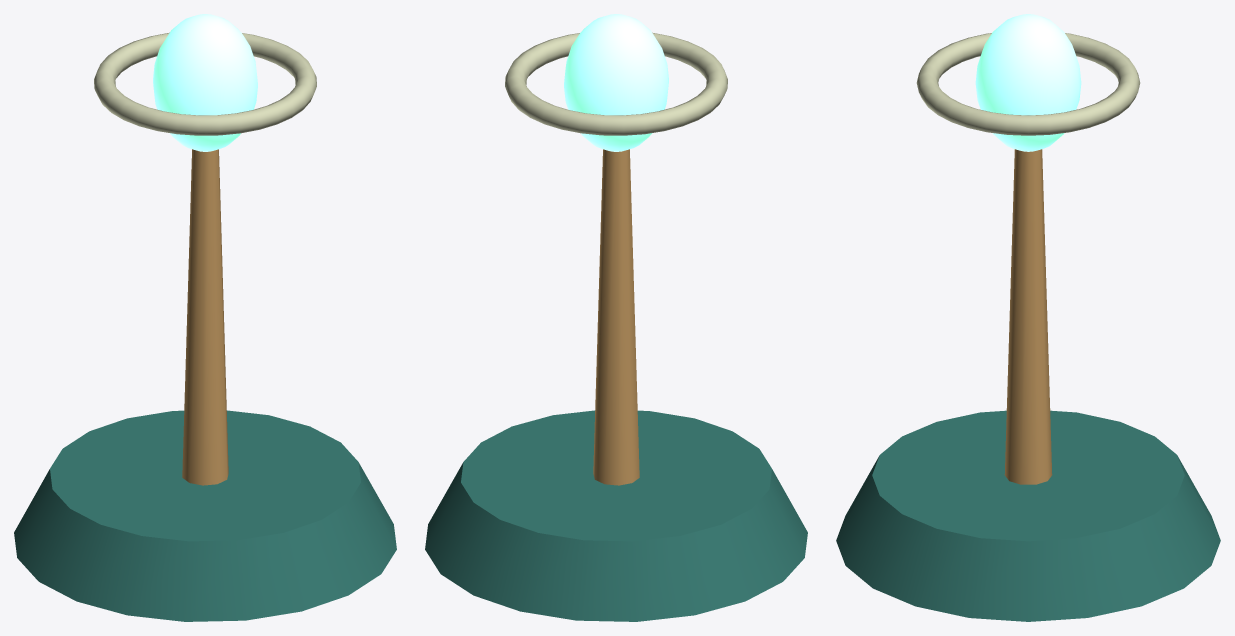
File: signal-buoy.glb
3 views of the same model, side by side, from view 1: azimuth 30°, elevation 25°; view 2: azimuth 150°, elevation 25°; view 3: azimuth 270°, elevation 25° (orthographic).
Visible parts, largest first — view 1: Float, Mast, Beacon, Signal_buoy; view 2: Float, Mast, Beacon, Signal_buoy; view 3: Float, Mast, Beacon, Signal_buoy.
Boxes of the visible parts, x1,y1,x2,y2 form: Float: (14, 410, 396, 621); Mast: (182, 149, 228, 485); Beacon: (153, 14, 257, 151); Signal_buoy: (94, 32, 316, 135); Float: (425, 410, 807, 621); Mast: (593, 149, 639, 485); Beacon: (564, 14, 668, 151); Signal_buoy: (505, 32, 727, 135); Float: (836, 410, 1220, 621); Mast: (1004, 149, 1052, 484); Beacon: (975, 14, 1081, 151); Signal_buoy: (916, 33, 1140, 135).
Bounding box in the file's own units: 1.6 × 2.4 × 1.6.
